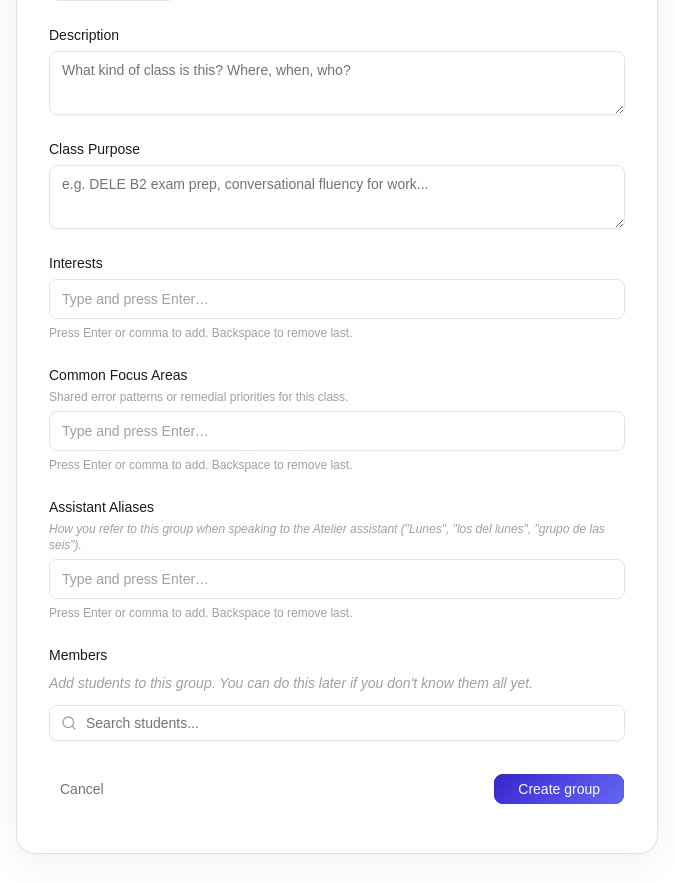
Test case: GroupForm - create mode › shows validation error when saving with empty name
(page scrolled)
Click the button with test id "save-button" at (559, 789), box [493, 773, 625, 805]
(page scrolled)
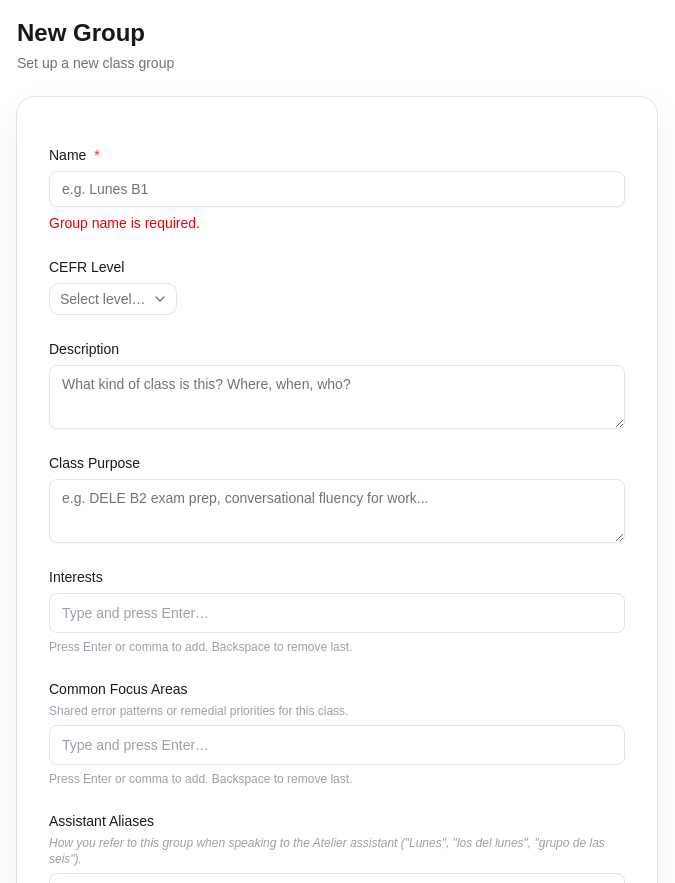
Expected: the message shows "Group name is required", [49, 215, 200, 231]
